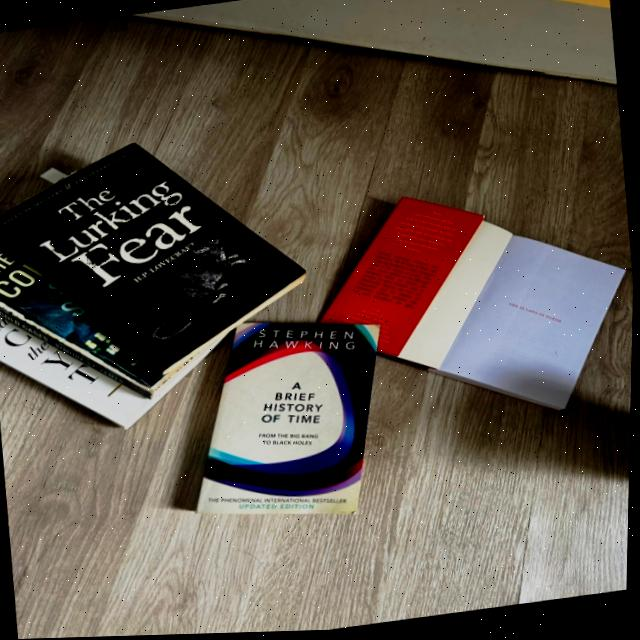Book: (0, 144, 304, 372), (320, 201, 627, 415), (0, 242, 231, 401), (198, 324, 382, 516), (0, 317, 217, 432)
